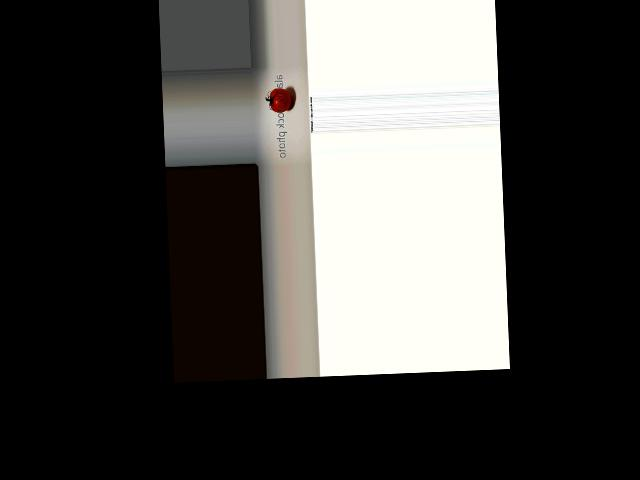tomato: (269, 88, 292, 113)
